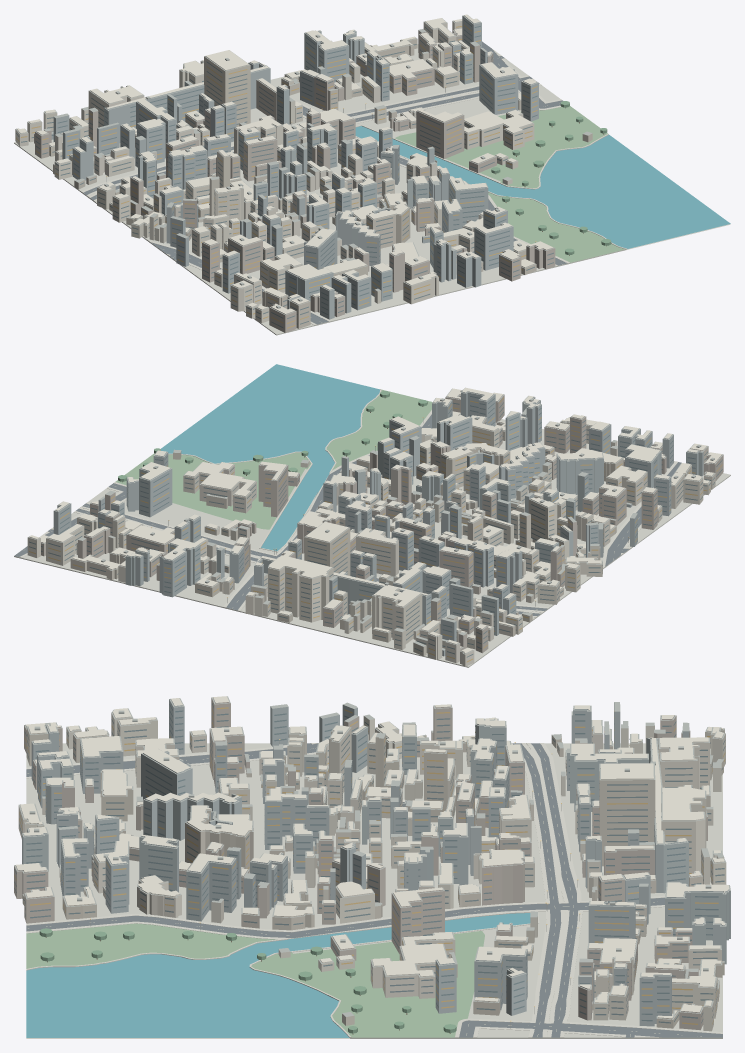
3 views of the same model, one above another, from view 1: azimuth 30°, elevation 25°; view 2: azimuth 150°, elevation 25°; view 3: azimuth 270°, elevation 25° (orthographic). The views are drawn at different scales.
Parts seen in each view (by area): view 1: city; view 2: city; view 3: city.
Boxes of the visible parts, box(x1,y1,x2,y2) form: city: box(14, 14, 730, 335); city: box(14, 364, 730, 667); city: box(14, 696, 730, 1038).
Bounding box in the file's own units: 509 × 71.15 × 515.
